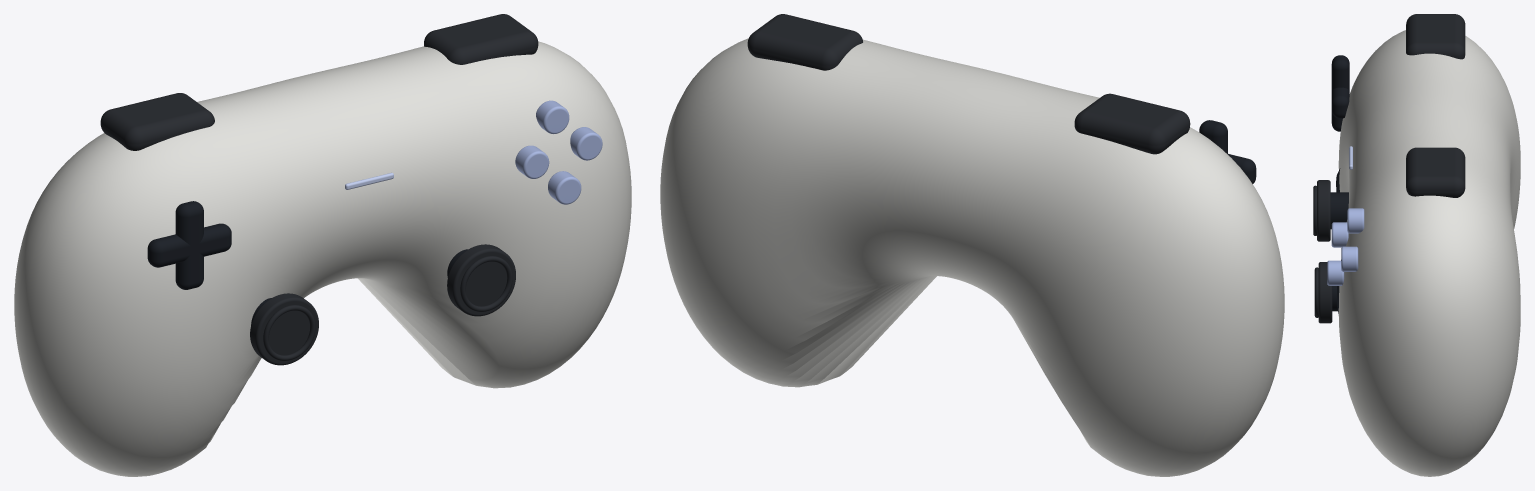
File: game-controller.glb
The picture shows the model from 3 angles, left to right: view 1: azimuth 30°, elevation 25°; view 2: azimuth 150°, elevation 25°; view 3: azimuth 270°, elevation 25°; orthographic projection. The views are drawn at different scales.
Parts seen in each view (by area): view 1: seamless-ergonomic-controller-shell, pressing-shoulder-trigger-1-016, pressing-shoulder-trigger-2-017, tilting-stick-2-008, tilting-stick-1-004, seated-direction-pad-010, seated-direction-pad-011, tilting-stick-1-005, tilting-stick-2-009, pressing-action-button-4-015, pressing-action-button-3-014, pressing-action-button-1-012 (+1 smaller); view 2: seamless-ergonomic-controller-shell, pressing-shoulder-trigger-1-016, pressing-shoulder-trigger-2-017; view 3: seamless-ergonomic-controller-shell, pressing-shoulder-trigger-2-017, pressing-shoulder-trigger-1-016, tilting-stick-1-004, tilting-stick-2-008, seated-direction-pad-011, tilting-stick-1-003, seated-direction-pad-010, pressing-action-button-2-013, pressing-action-button-1-012, pressing-action-button-4-015, pressing-action-button-3-014 (+1 smaller).
Boxes of the visible parts, x1,y1,x2,y2 form: seamless-ergonomic-controller-shell: [14, 41, 631, 476]; pressing-shoulder-trigger-1-016: [100, 93, 214, 150]; pressing-shoulder-trigger-2-017: [424, 14, 538, 64]; tilting-stick-2-008: [447, 244, 515, 316]; tilting-stick-1-004: [250, 293, 318, 365]; seated-direction-pad-010: [147, 223, 231, 267]; seated-direction-pad-011: [175, 201, 203, 289]; tilting-stick-1-005: [263, 305, 315, 360]; tilting-stick-2-009: [460, 256, 512, 311]; pressing-action-button-4-015: [515, 145, 549, 178]; pressing-action-button-3-014: [548, 171, 581, 204]; pressing-action-button-1-012: [536, 100, 569, 134]; seamless-ergonomic-controller-shell: [660, 38, 1284, 476]; pressing-shoulder-trigger-1-016: [1074, 93, 1190, 154]; pressing-shoulder-trigger-2-017: [747, 14, 862, 70]; seamless-ergonomic-controller-shell: [1338, 30, 1520, 476]; pressing-shoulder-trigger-2-017: [1406, 147, 1465, 197]; pressing-shoulder-trigger-1-016: [1406, 14, 1465, 59]; tilting-stick-1-004: [1317, 180, 1330, 241]; tilting-stick-2-008: [1318, 262, 1332, 323]; seated-direction-pad-011: [1331, 55, 1349, 131]; tilting-stick-1-003: [1330, 192, 1348, 229]; seated-direction-pad-010: [1331, 87, 1349, 118]; pressing-action-button-2-013: [1341, 246, 1358, 271]; pressing-action-button-1-012: [1347, 208, 1364, 233]; pressing-action-button-4-015: [1331, 222, 1348, 247]; pressing-action-button-3-014: [1327, 260, 1344, 285].
Size of the model in its own units: 2 by 1.13 by 0.7145.
